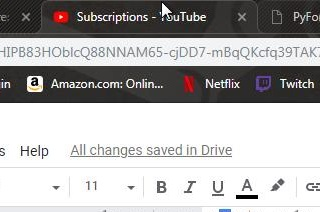cursor: (158, 1, 174, 21)
